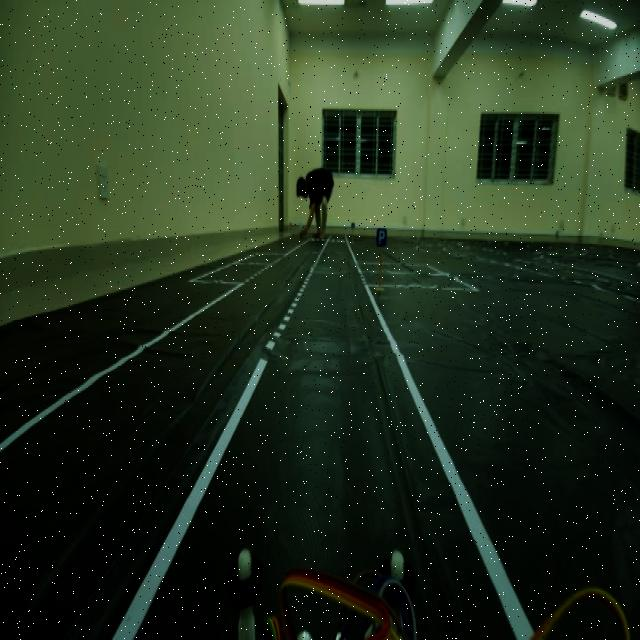parking: (372, 216, 389, 250)
